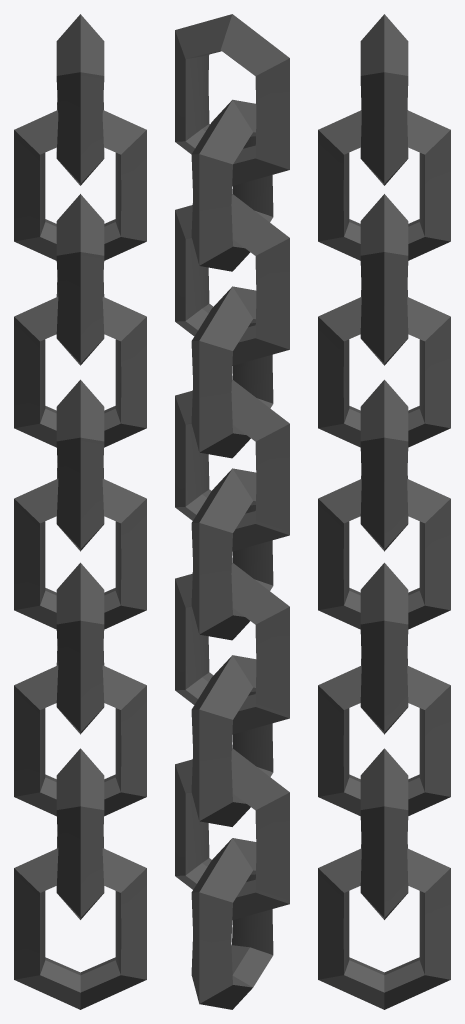
The model's file is Chain.fbx.
3 renders of one model, left to right at view 1: azimuth 90°, elevation 25°; view 2: azimuth 150°, elevation 25°; view 3: azimuth 270°, elevation 25°, orthographic.
Parts seen in each view (by area): view 1: Chain; view 2: Chain; view 3: Chain.
Part boxes in pixels (x1=…): Chain: x1=14, y1=14, x2=146, y2=1009; Chain: x1=175, y1=14, x2=289, y2=1009; Chain: x1=318, y1=14, x2=450, y2=1009.
Bounding box in the file's own units: 17.26 × 143 × 17.26.
